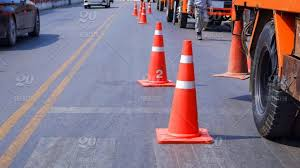car: (1, 1, 41, 47), (82, 1, 113, 9)
cone: (159, 39, 212, 143), (137, 23, 176, 90), (216, 22, 254, 79), (139, 5, 149, 25)
